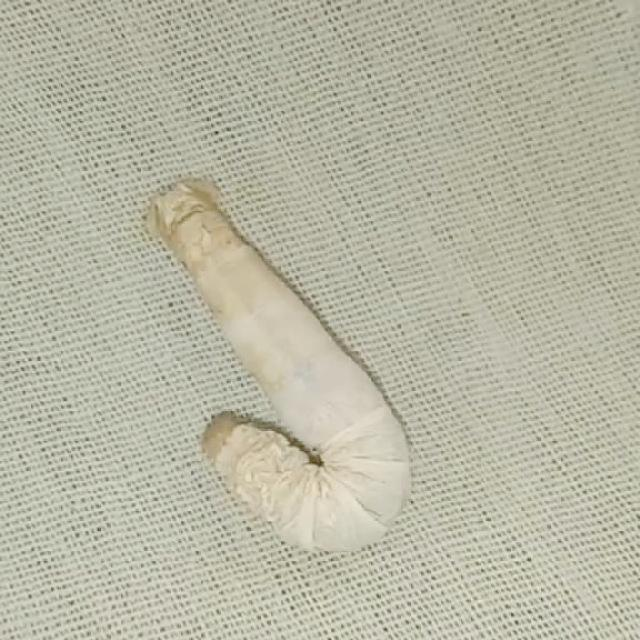Grasserie: (133, 166, 441, 572)
